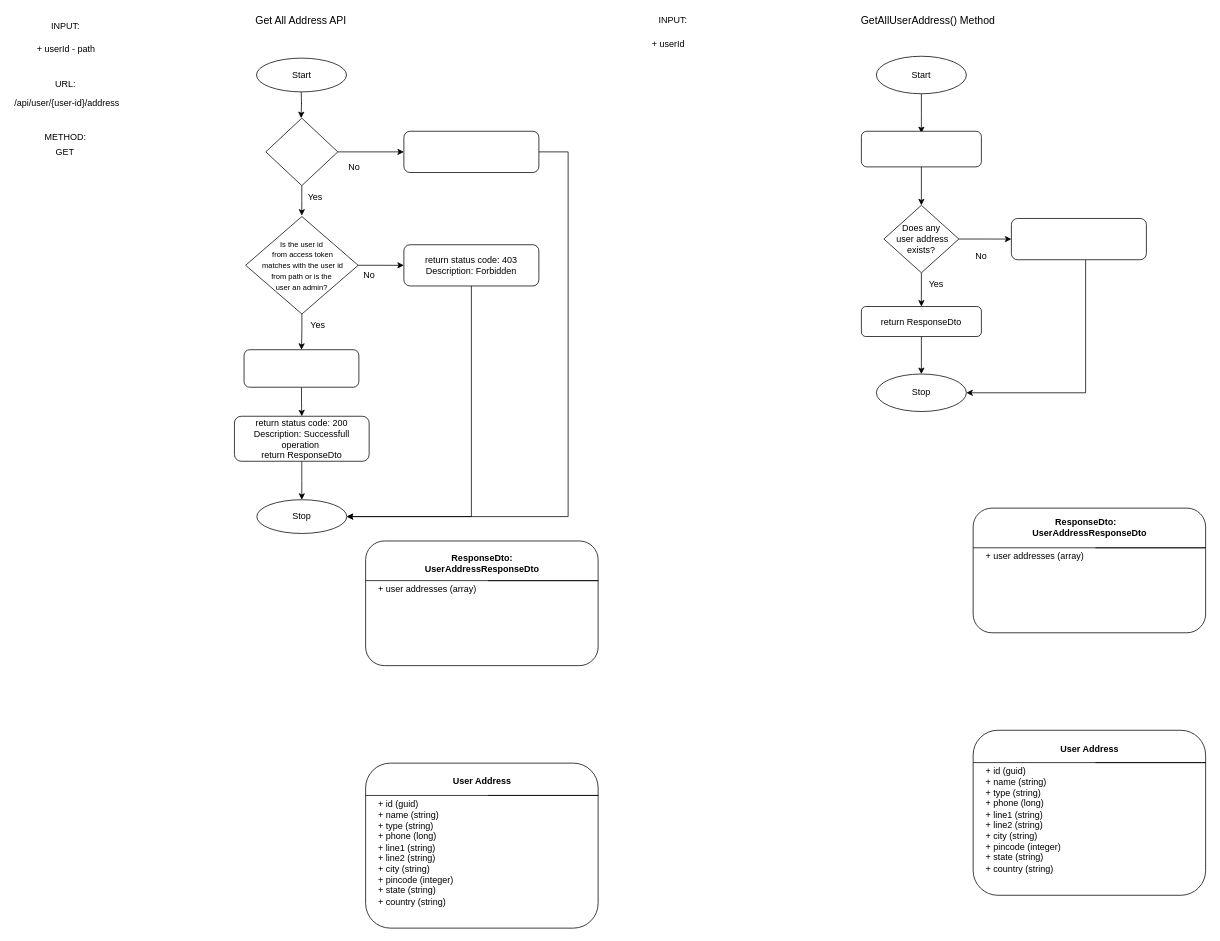
The diagram is 1220 pixels wide and 941 high, and some of its shapes have lost their labels. The box of each missing label's shape, as (x1, y1, x2, y2) in pixels:
Call GetAllUserAddress() method: (243, 349, 359, 387)
Fetch all address information of the user from DB: (861, 130, 981, 167)
Is Authorized?: (265, 117, 338, 186)
return status code: 204 Description: No address has been found: (1011, 218, 1146, 260)
return status code: 401 Description: Unauthorized: (403, 130, 539, 172)
